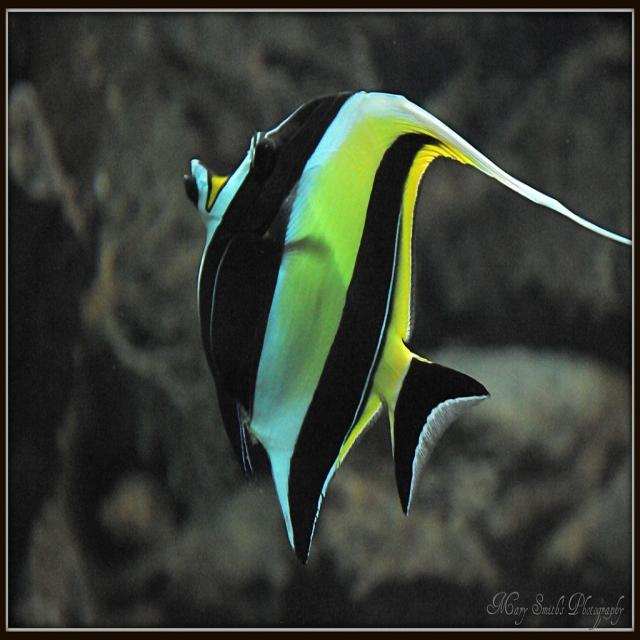MorishIdol: (181, 88, 632, 566)
